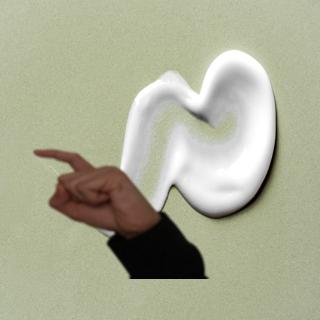WHY: (26, 141, 157, 233)
